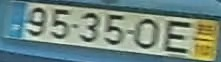3: (76, 10, 102, 43)
5: (101, 12, 126, 47), (48, 7, 73, 41)
9: (24, 5, 49, 38)
E: (160, 18, 193, 55)
O: (132, 17, 162, 50)
